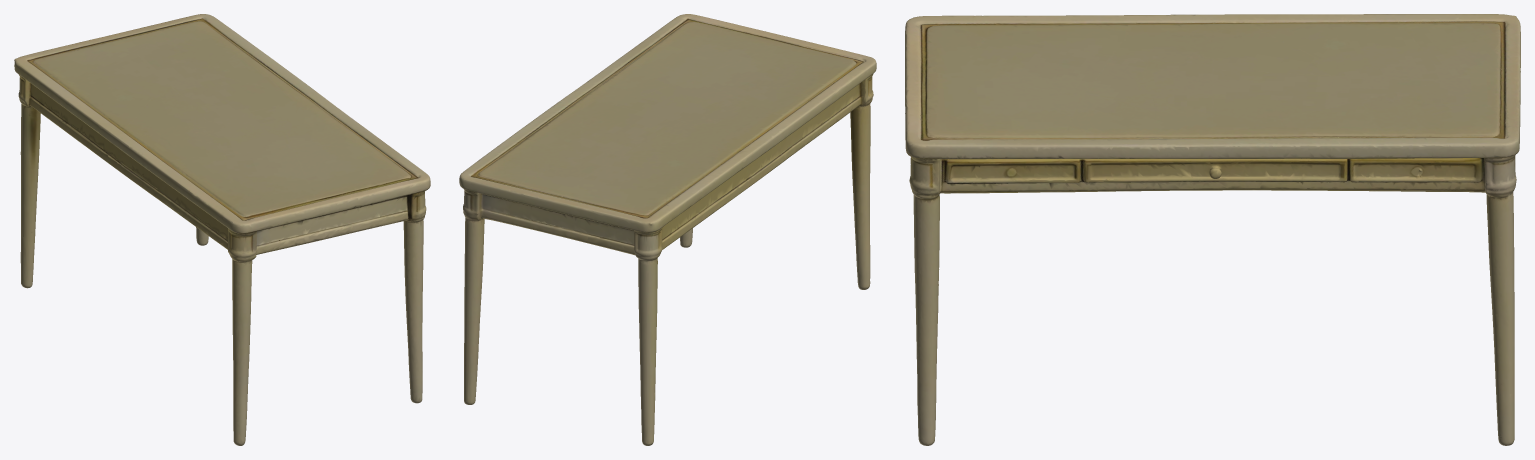
Rendered from c04-stylized.glb.
The picture shows the model from 3 angles, left to right: view 1: azimuth 30°, elevation 25°; view 2: azimuth 150°, elevation 25°; view 3: azimuth 270°, elevation 25°; orthographic projection. The views are drawn at different scales.
Visible parts, largest first — view 1: tripo_node_ffb4c693-d786-4acb-869c-cb383c6ac572; view 2: tripo_node_ffb4c693-d786-4acb-869c-cb383c6ac572; view 3: tripo_node_ffb4c693-d786-4acb-869c-cb383c6ac572.
Part boxes in pixels (<box>): tripo_node_ffb4c693-d786-4acb-869c-cb383c6ac572: <box>14,14,430,445</box>; tripo_node_ffb4c693-d786-4acb-869c-cb383c6ac572: <box>459,14,876,445</box>; tripo_node_ffb4c693-d786-4acb-869c-cb383c6ac572: <box>905,14,1520,445</box>.
Bounding box in the file's own units: 0.5037 × 0.5518 × 1.
1 material, 1 textured.
